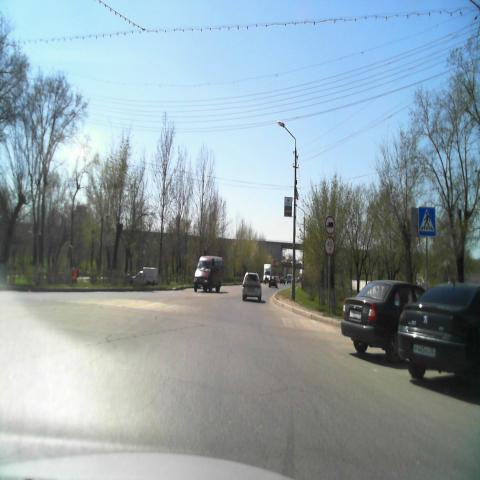3_13: (324, 238, 334, 255)
